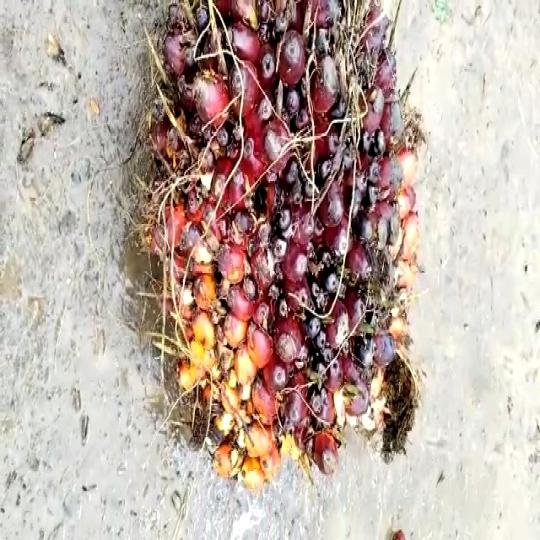kurang masak: (137, 0, 426, 481)
